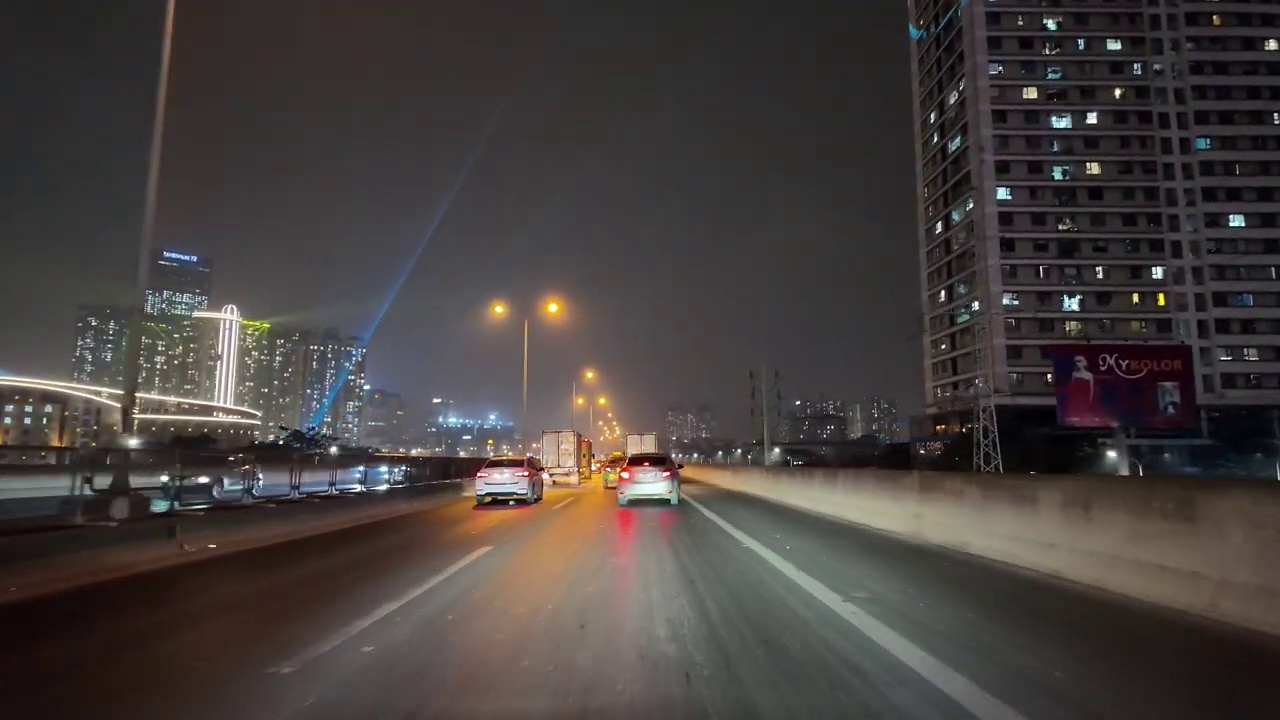acesa: (482, 296, 514, 327), (538, 293, 569, 325), (578, 364, 603, 387)
